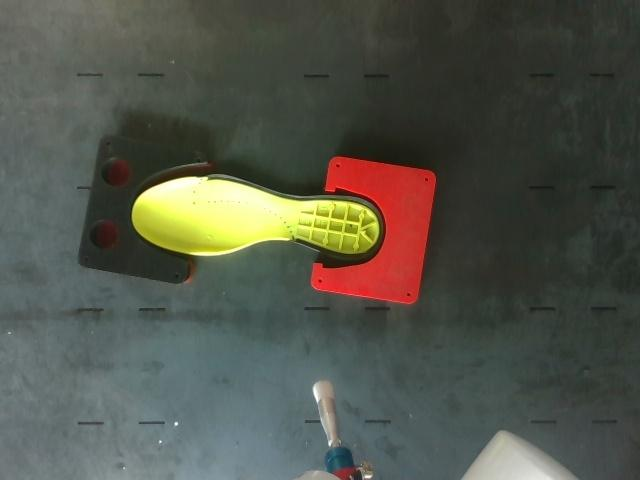shoes: (132, 175, 383, 260)
